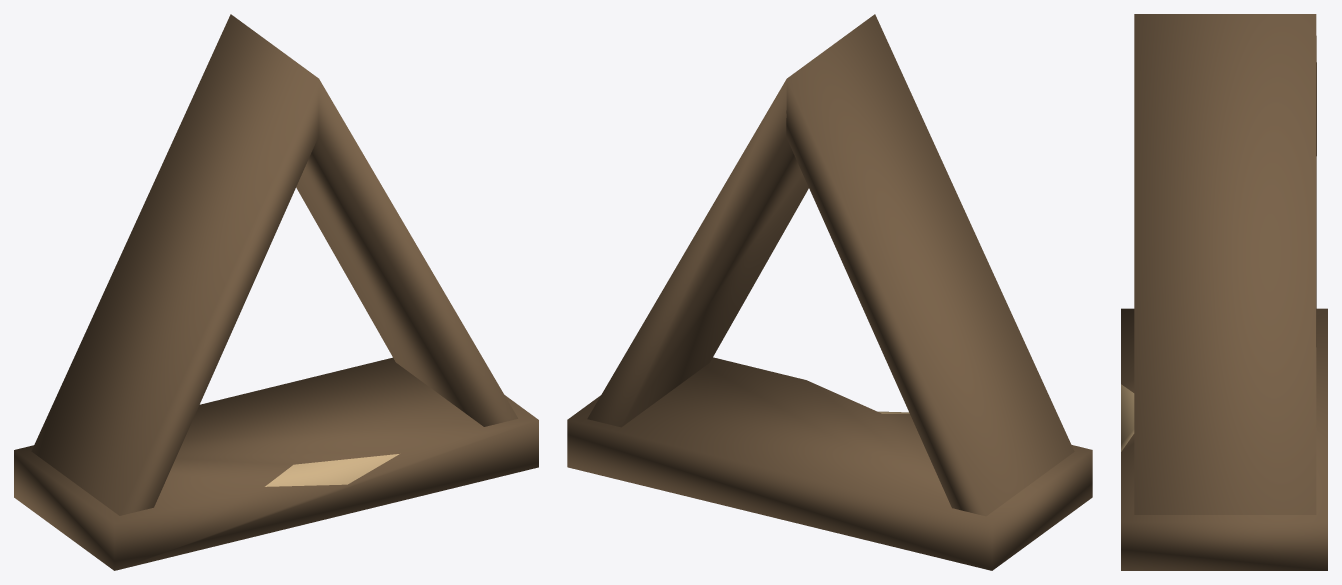
Rendered from rpgpp_ag_window_05a.fbx.
3 views of the same model, side by side, from view 1: azimuth 30°, elevation 25°; view 2: azimuth 150°, elevation 25°; view 3: azimuth 270°, elevation 25° (orthographic). The views are drawn at different scales.
Visible parts, largest first — view 1: rpgpp_ag_window_05a; view 2: rpgpp_ag_window_05a; view 3: rpgpp_ag_window_05a.
Part boxes in pixels (<box>): rpgpp_ag_window_05a: <box>14,14,538,570</box>; rpgpp_ag_window_05a: <box>567,14,1092,570</box>; rpgpp_ag_window_05a: <box>1121,14,1327,570</box>.
Bounding box in the file's own units: 1.38 × 1.35 × 0.5651.
